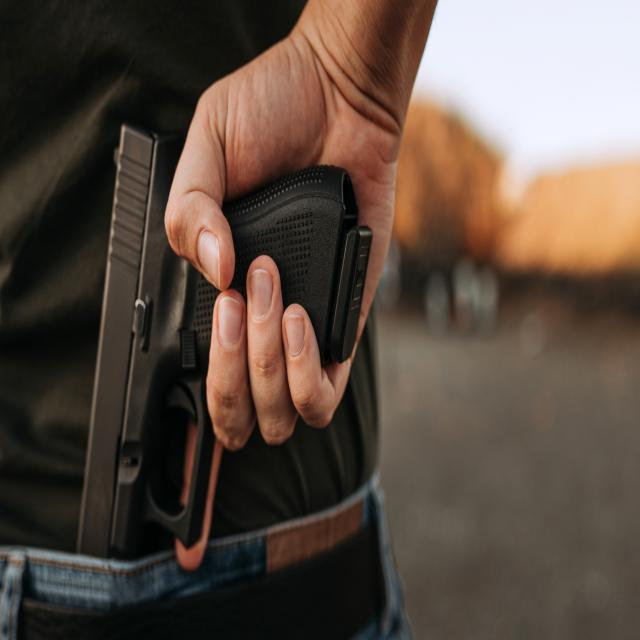HandGun: (70, 99, 386, 575)
